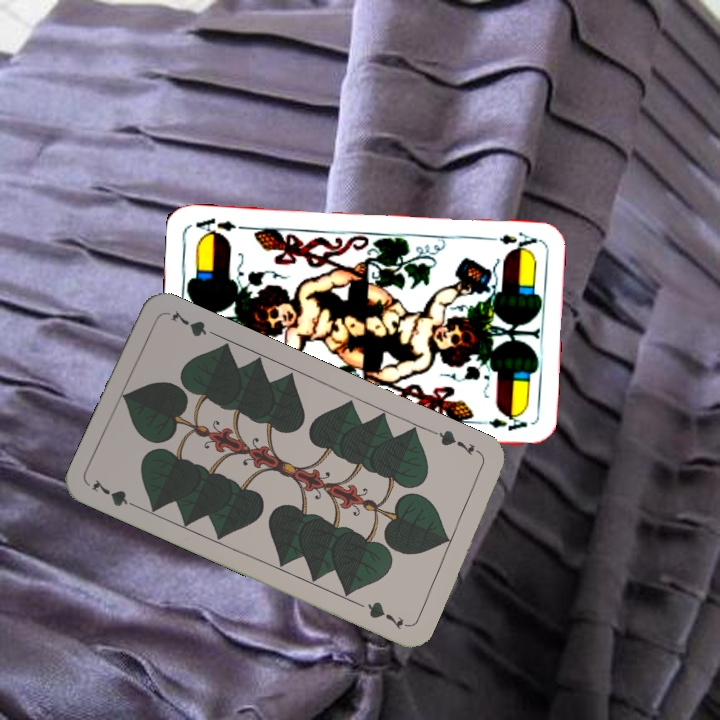EA: (481, 228, 540, 253)
G7: (88, 475, 143, 512), (429, 426, 485, 459)
